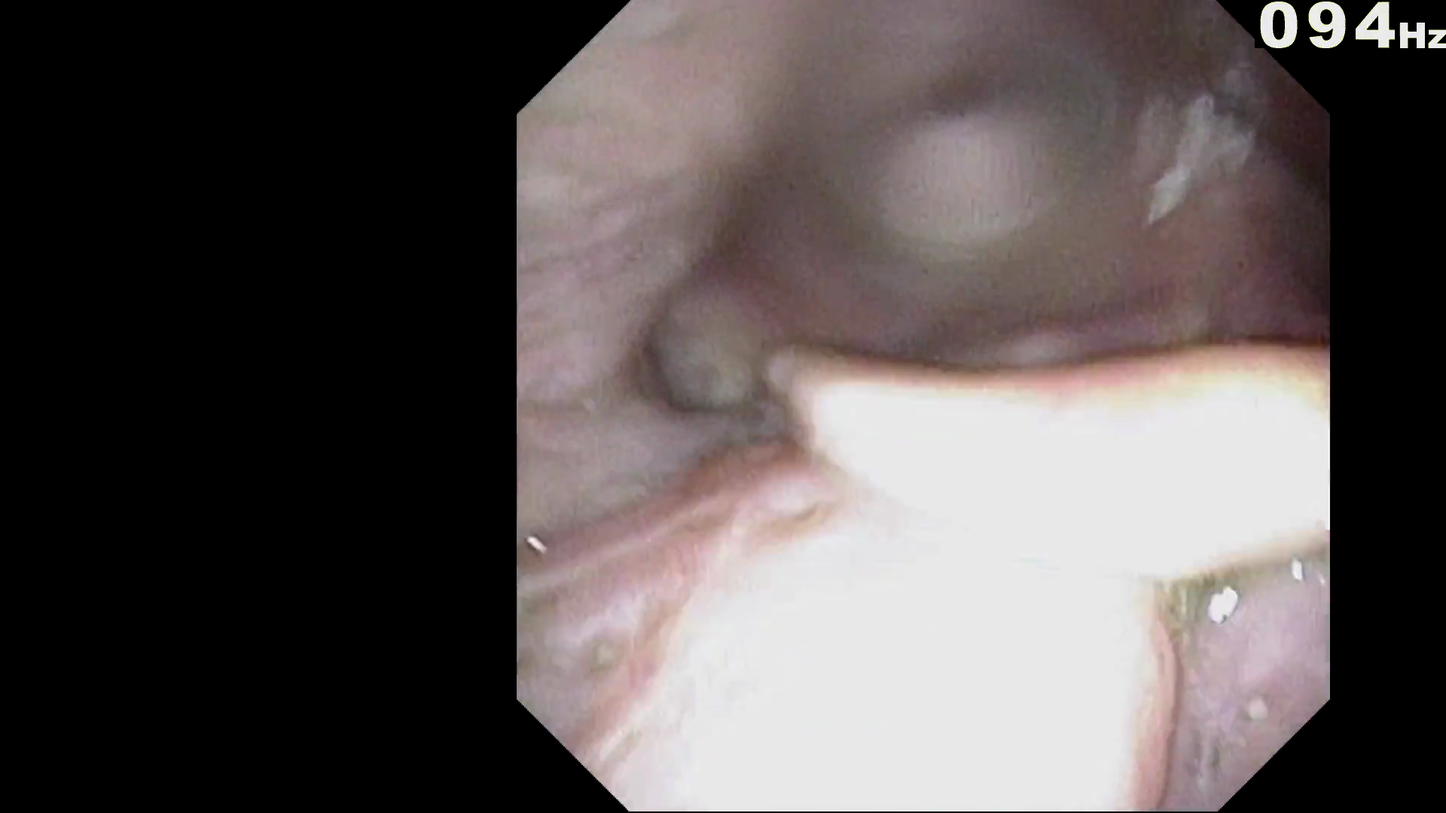epiglottis: (798, 433, 1305, 658)
trachea: (1071, 390, 1173, 474)
